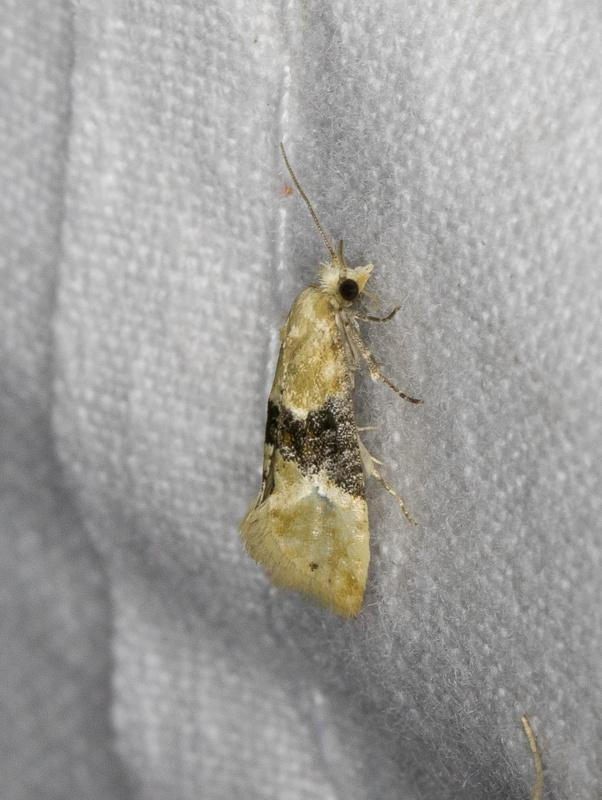Eupoecilia Ambiguella: (236, 138, 425, 621)
